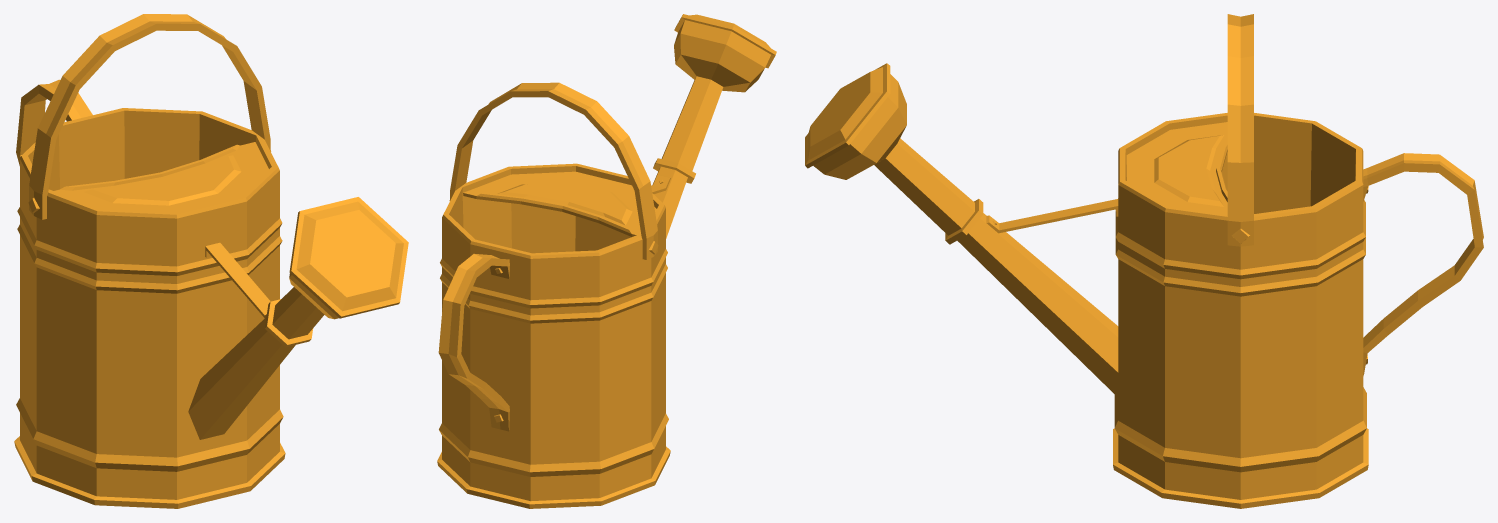
File: SM_Can_Watering_Metal_B.fbx
The picture shows the model from 3 angles, left to right: view 1: azimuth 30°, elevation 25°; view 2: azimuth 150°, elevation 25°; view 3: azimuth 270°, elevation 25°; orthographic projection. The views are drawn at different scales.
Parts seen in each view (by area): view 1: can-watering-metal-b; view 2: can-watering-metal-b; view 3: can-watering-metal-b.
Part boxes in pixels (x1=…): can-watering-metal-b: x1=14, y1=14, x2=408, y2=508; can-watering-metal-b: x1=437, y1=14, x2=776, y2=508; can-watering-metal-b: x1=805, y1=14, x2=1483, y2=508.
Bounding box in the file's own units: 0.2847 × 0.4999 × 0.7181.
